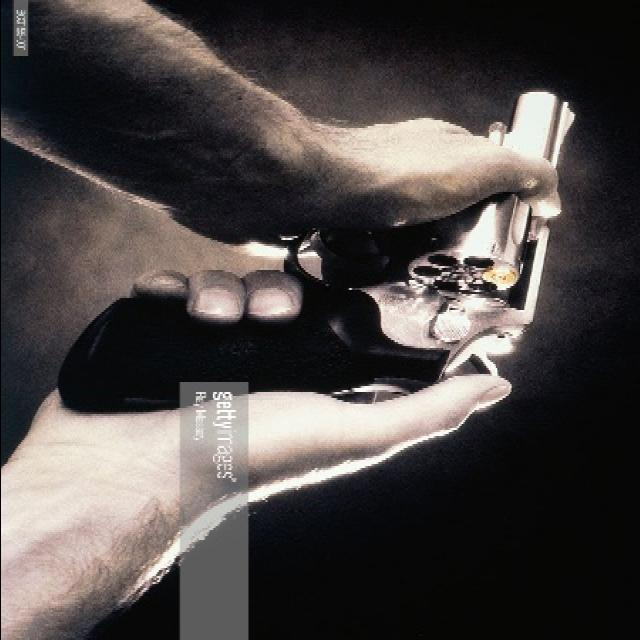handgun: (54, 85, 588, 419)
